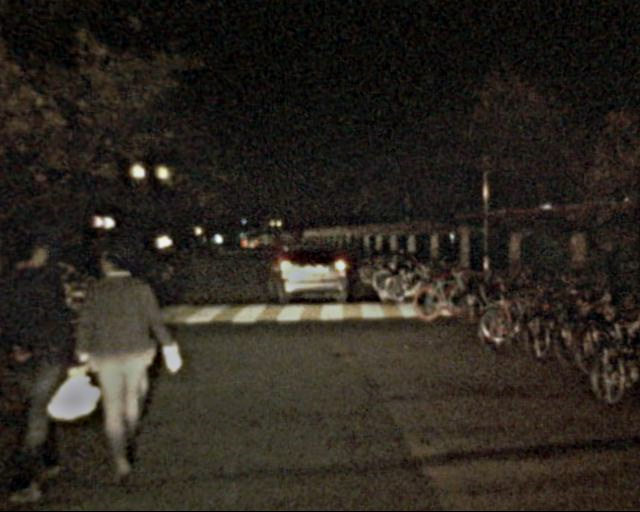person: (90, 228, 170, 459), (3, 219, 71, 485)
